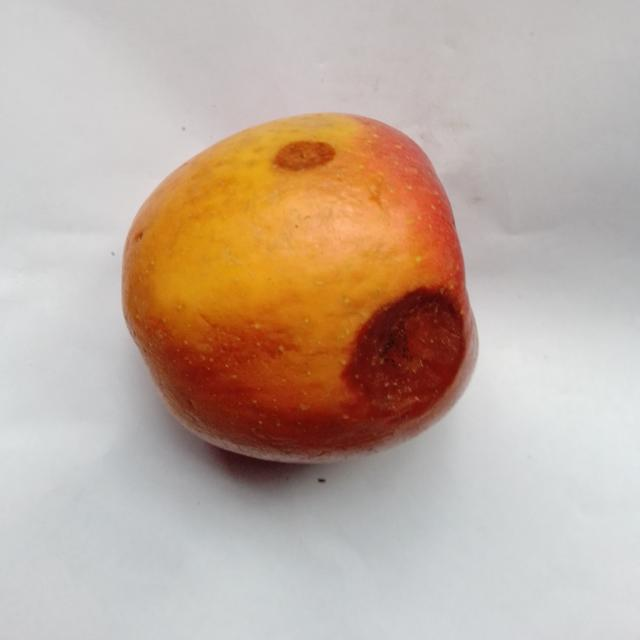apple: (123, 114, 477, 461)
